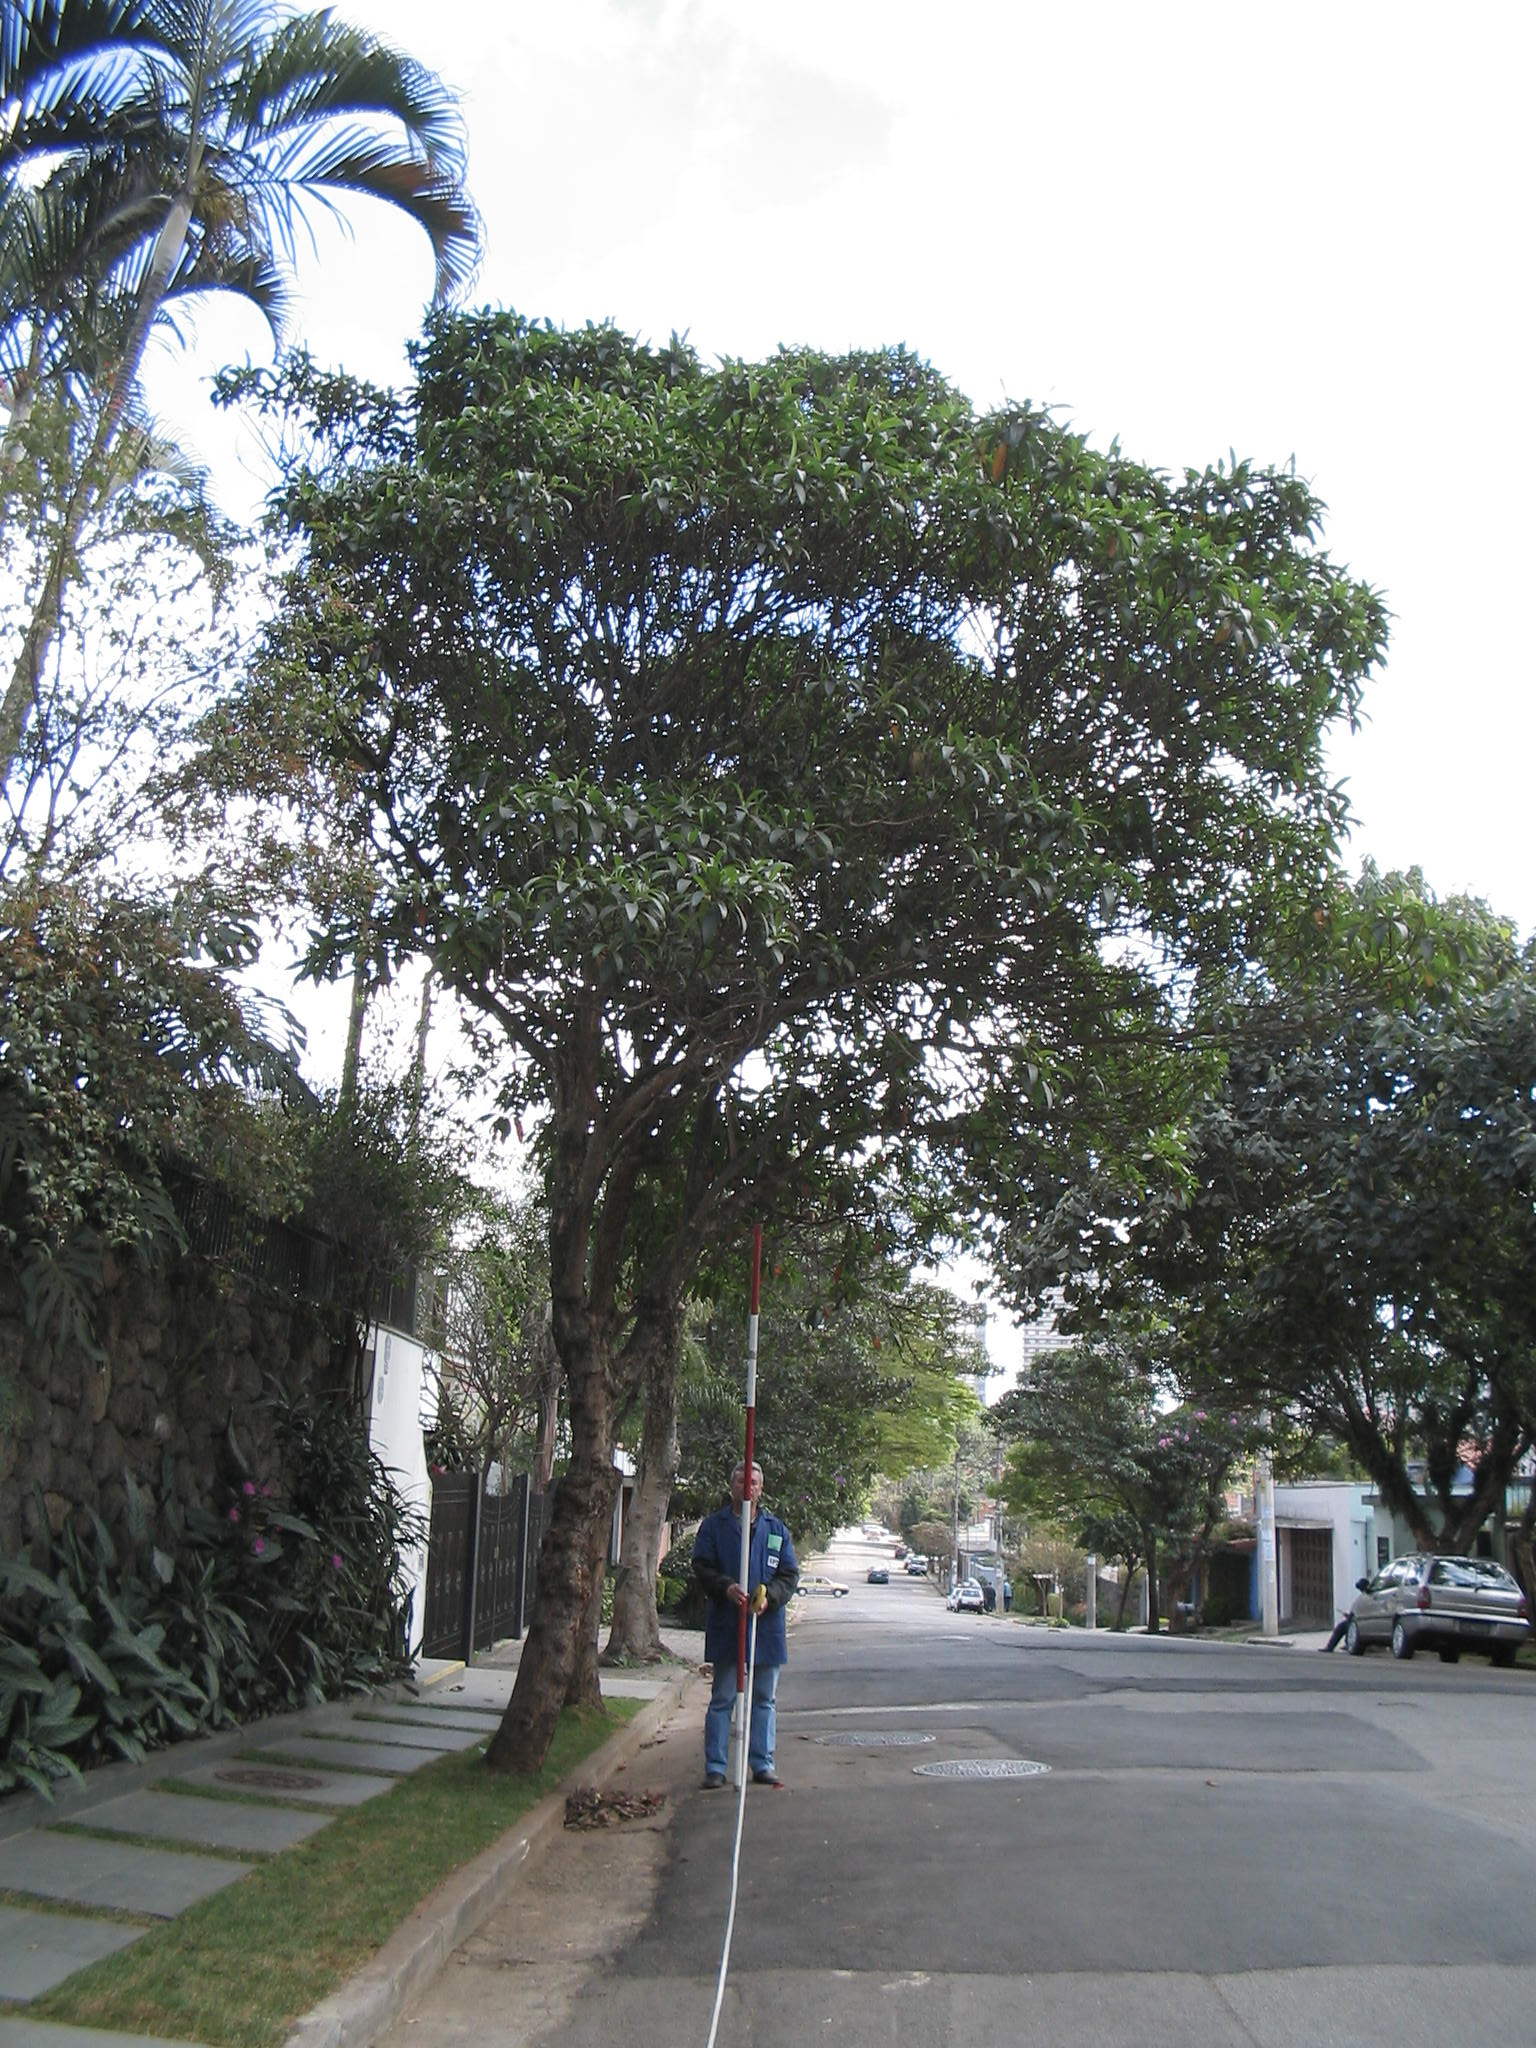crown: (184, 305, 1384, 1082)
stem: (473, 1169, 629, 1769), (615, 1309, 707, 1679)
stick: (724, 1227, 779, 1785)
tree: (182, 305, 1391, 1769)
